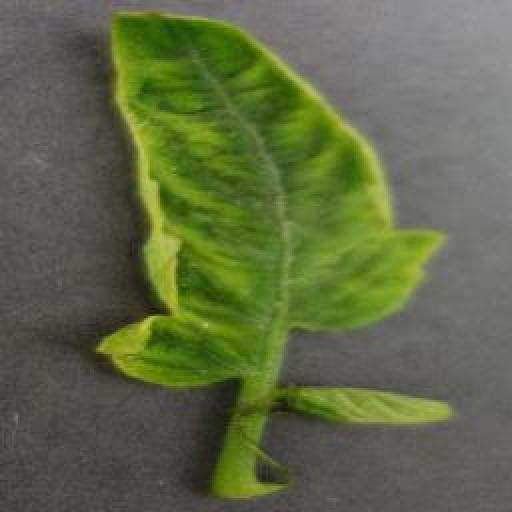Yellow Leaf Curl Virus: (98, 11, 453, 381)
